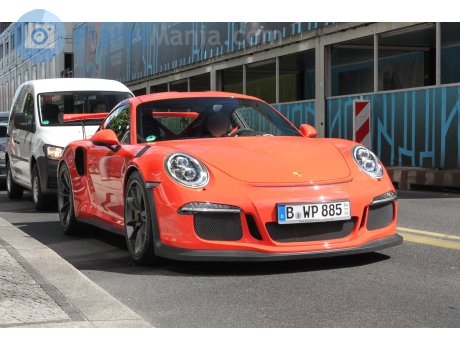License Plates: (286, 205, 349, 217)
